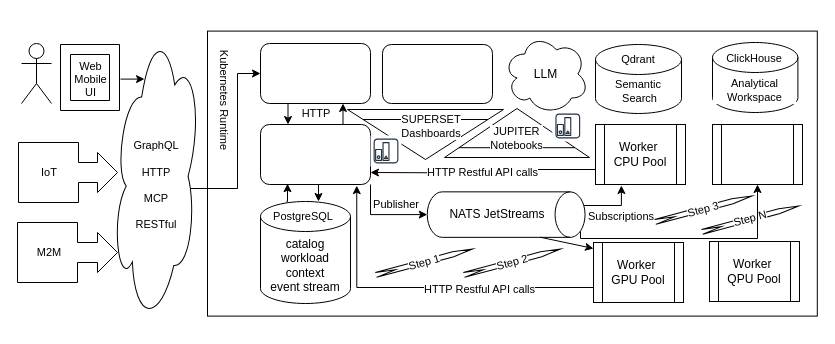
Some shapes in this 835 by 344 pixel diagram are drawn without their labels. The centre of each missing label's shape, as x and y in pixels:
"NoETL Control Plane" belongs at [315,154].
"NoETL Gateway" belongs at [315,73].
"User" belongs at [36,73].
"VictoriaMetrics ClickStack Cloud Observability" belongs at [437,74].
"Worker IO Pool" belongs at [757,154].
